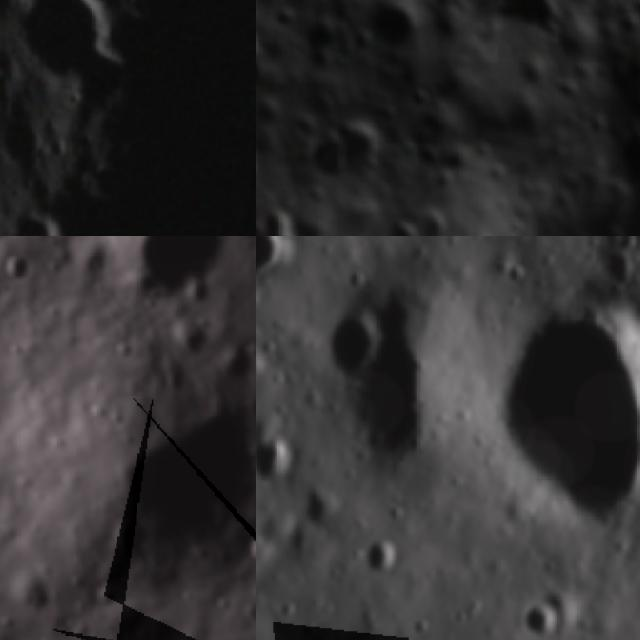crater: (19, 0, 256, 236), (458, 272, 640, 556), (98, 396, 256, 564), (334, 277, 467, 472), (2, 0, 121, 84), (112, 236, 238, 303), (313, 296, 395, 384), (65, 42, 139, 122), (293, 124, 355, 195), (356, 530, 409, 593), (256, 419, 299, 496), (297, 478, 350, 540), (506, 591, 569, 640), (256, 236, 306, 297), (0, 114, 51, 173), (102, 516, 157, 569), (590, 243, 640, 289), (3, 205, 72, 236), (407, 201, 458, 236), (402, 79, 442, 118), (374, 209, 430, 236), (63, 0, 146, 17), (256, 93, 289, 134), (265, 0, 303, 34), (0, 248, 33, 287), (499, 256, 534, 290), (609, 6, 640, 43), (256, 141, 270, 197), (613, 236, 640, 258), (389, 0, 436, 10), (623, 0, 640, 24), (246, 530, 256, 568)
